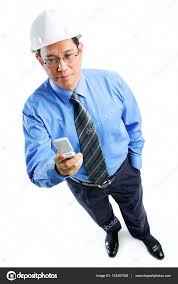Person_wearing_helmet: (29, 4, 85, 65)
